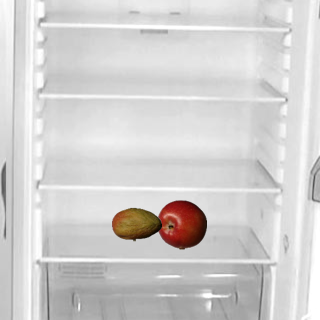Apple Braeburn: (156, 199, 206, 249)
Papaya: (111, 199, 161, 249)
